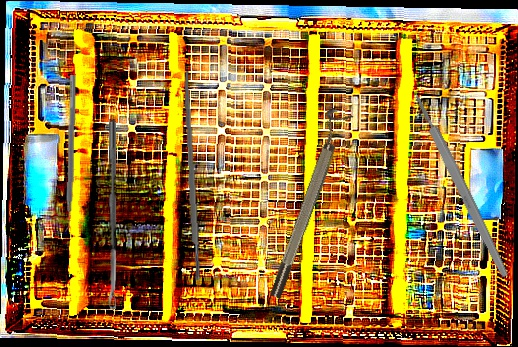Fixation Ring: (258, 106, 355, 301)
Scalpel Handle: (411, 92, 512, 280), (181, 70, 202, 281)
Spatula Surgical: (60, 74, 77, 233)
Surgical Spoon: (108, 119, 116, 309)
